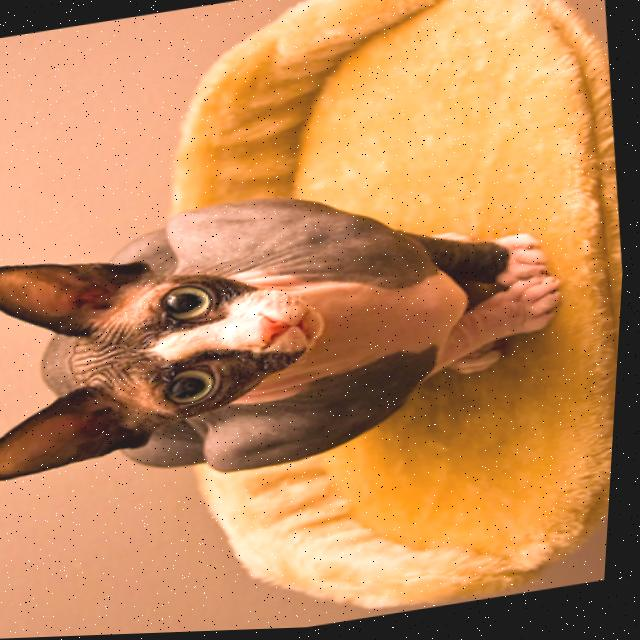Sphynx: (0, 150, 589, 515)
